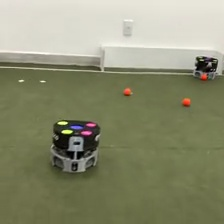ball: (122, 86, 132, 96), (182, 96, 191, 106), (201, 72, 208, 80)
goal: (99, 43, 224, 76)
robot: (48, 118, 102, 174), (192, 54, 219, 81)
